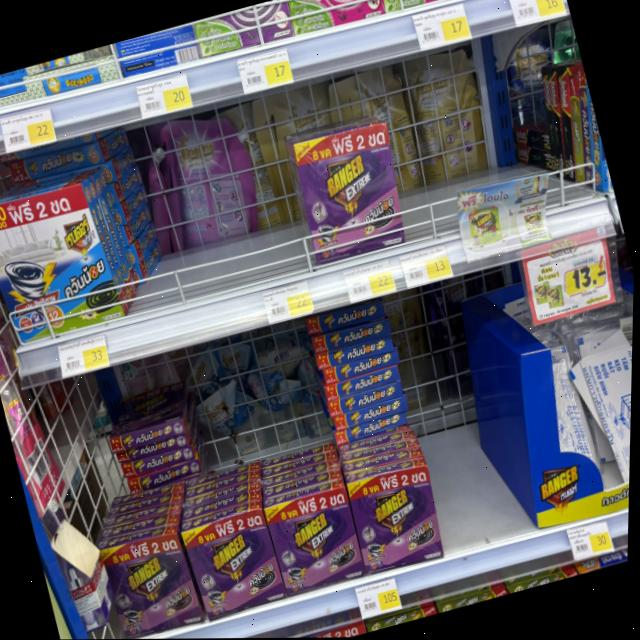empty_shelf: (42, 292, 425, 547), (98, 90, 320, 314), (373, 21, 595, 242), (386, 269, 538, 553)
